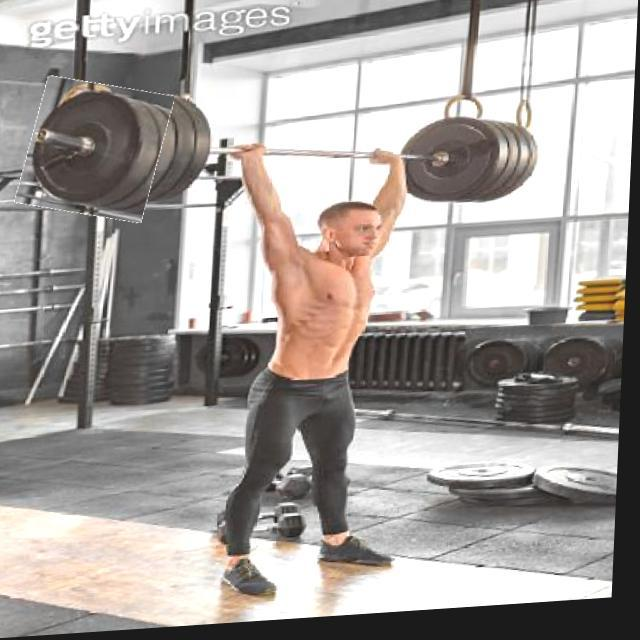barbell: (23, 77, 171, 226)
